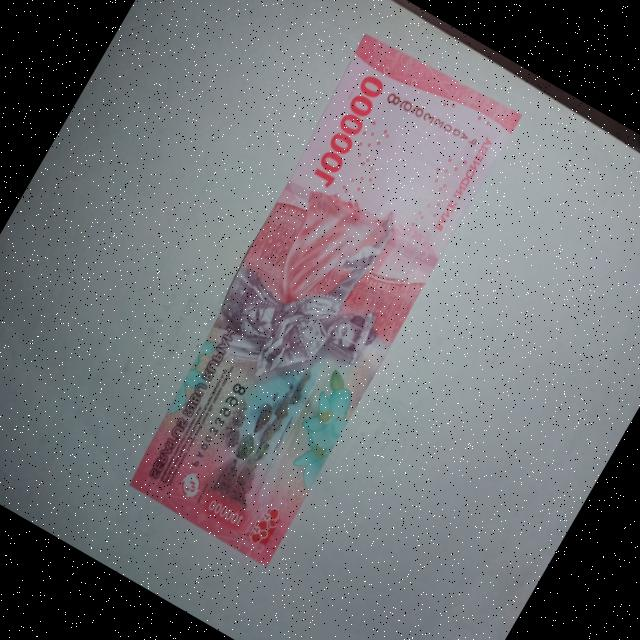100K: (96, 15, 547, 586)
